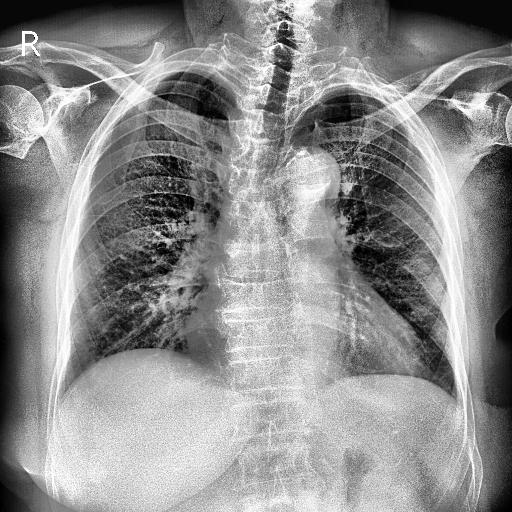0- Aortic enlargement: (282, 144, 341, 220), (278, 145, 342, 212), (287, 146, 338, 203)
2- Calcification: (288, 150, 310, 166), (304, 180, 333, 190)
3- Cardiomegaly: (184, 296, 420, 376), (184, 318, 430, 384), (184, 324, 420, 386)
5- ILD: (73, 106, 222, 362), (332, 130, 448, 384)
